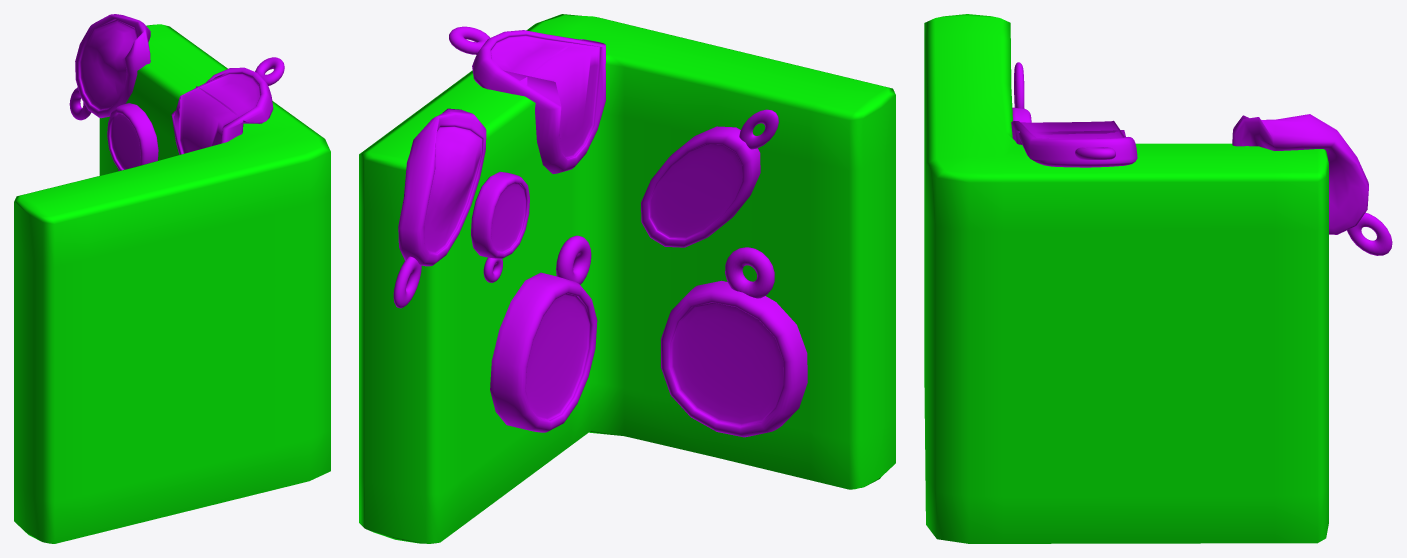
File: relojes esquina.fbx
The picture shows the model from 3 angles, left to right: view 1: azimuth 30°, elevation 25°; view 2: azimuth 150°, elevation 25°; view 3: azimuth 270°, elevation 25°; orthographic projection. The views are drawn at different scales.
Parts seen in each view (by area): view 1: pCube14, pCubeShape20; view 2: pCube14, pCubeShape20; view 3: pCube14, pCubeShape20.
Part boxes in pixels (x1,y1,x2,y2): pCube14: [14, 24, 330, 543]; pCubeShape20: [69, 14, 284, 171]; pCube14: [359, 14, 895, 543]; pCubeShape20: [393, 26, 807, 437]; pCube14: [924, 14, 1328, 543]; pCubeShape20: [1011, 62, 1392, 255].
Size of the model in its own units: 4.49 by 4.9 by 5.12.
